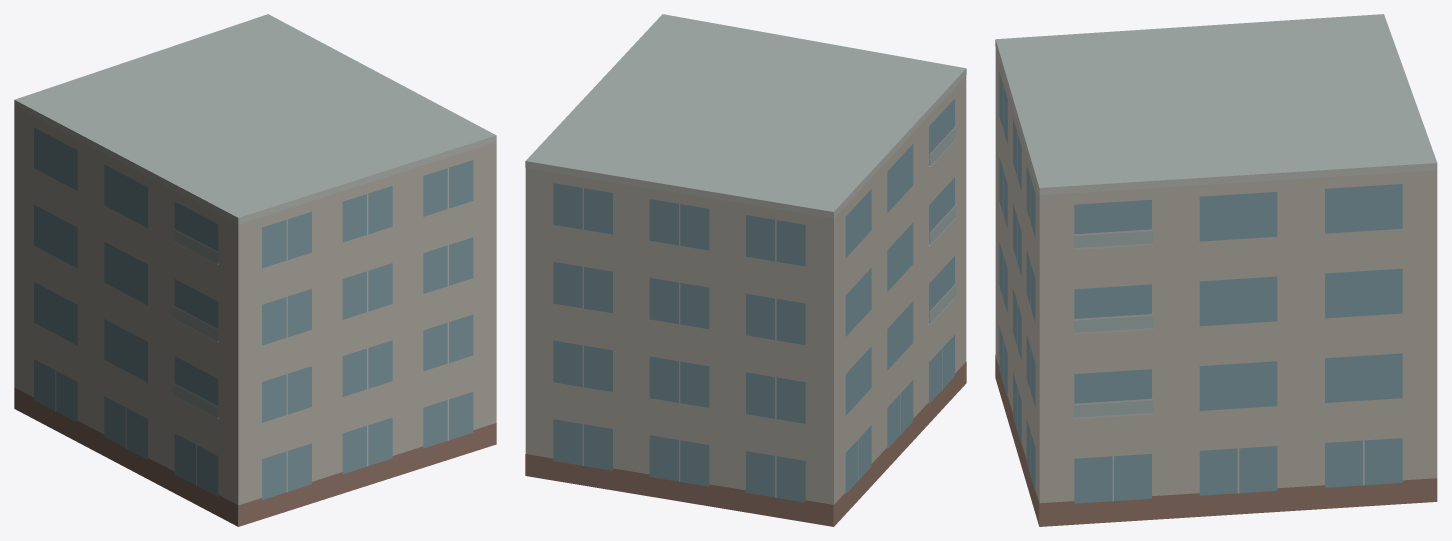
File: survey-upis-32577631.glb
3 views of the same model, side by side, from view 1: azimuth 30°, elevation 25°; view 2: azimuth 150°, elevation 25°; view 3: azimuth 270°, elevation 25° (orthographic). The views are drawn at different scales.
Parts seen in each view (by area): view 1: survey-upis-32577631.tmp; view 2: survey-upis-32577631.tmp; view 3: survey-upis-32577631.tmp.
Part boxes in pixels (x1,y1,x2,y2): survey-upis-32577631.tmp: [14, 14, 496, 526]; survey-upis-32577631.tmp: [525, 14, 966, 526]; survey-upis-32577631.tmp: [995, 14, 1437, 526].
Bounding box in the file's own units: 12.79 × 11.6 × 13.72.
